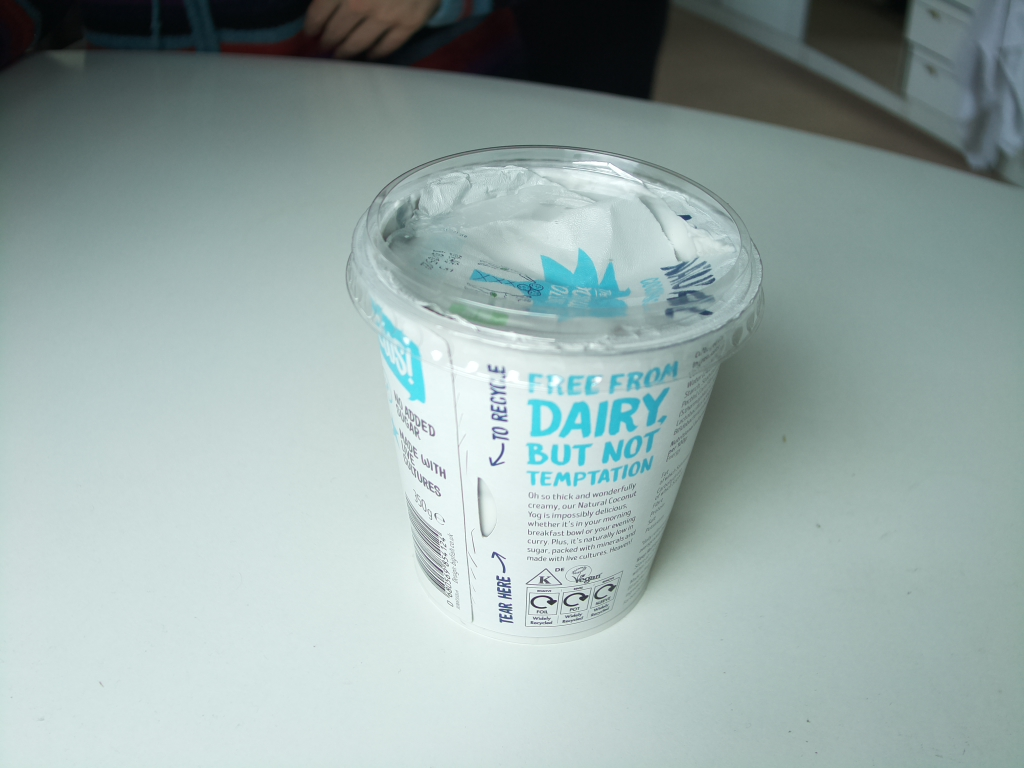yogurt: (347, 145, 763, 642)
